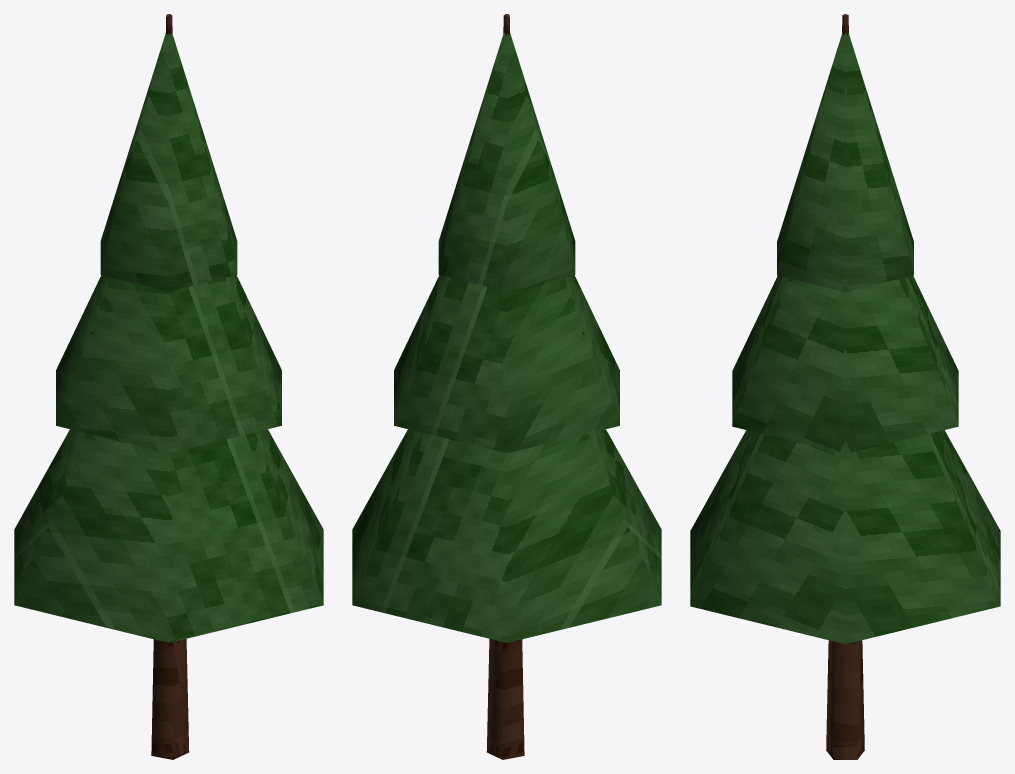
The model's file is pine01-lod2.glb.
The picture shows the model from 3 angles, left to right: view 1: azimuth 30°, elevation 25°; view 2: azimuth 150°, elevation 25°; view 3: azimuth 270°, elevation 25°; orthographic projection.
Visible parts, largest first — view 1: TZ_pine_Batch_01_LOD2, TZ_pine_Batch_00_LOD2; view 2: TZ_pine_Batch_01_LOD2, TZ_pine_Batch_00_LOD2; view 3: TZ_pine_Batch_01_LOD2, TZ_pine_Batch_00_LOD2.
Boxes of the visible parts, x1,y1,x2,y2 form: TZ_pine_Batch_01_LOD2: [14, 32, 323, 642]; TZ_pine_Batch_00_LOD2: [151, 14, 189, 759]; TZ_pine_Batch_01_LOD2: [352, 32, 661, 642]; TZ_pine_Batch_00_LOD2: [486, 14, 524, 759]; TZ_pine_Batch_01_LOD2: [690, 32, 1000, 644]; TZ_pine_Batch_00_LOD2: [826, 14, 864, 759].
Size of the model in its own units: 4.75 by 10.8 by 4.12.
Materials: 2 (2 with a texture image).
